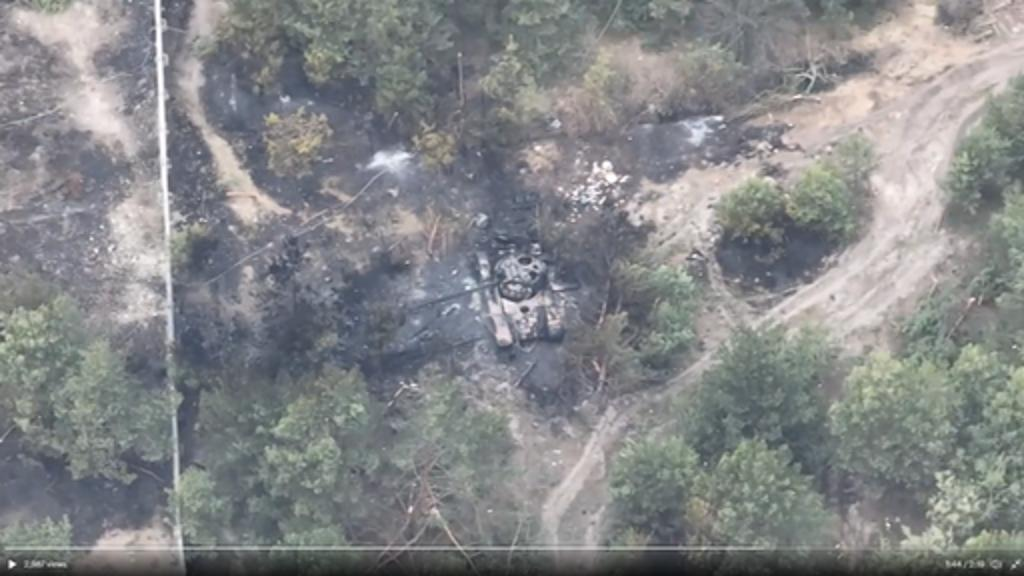TANK: (412, 236, 564, 354)
